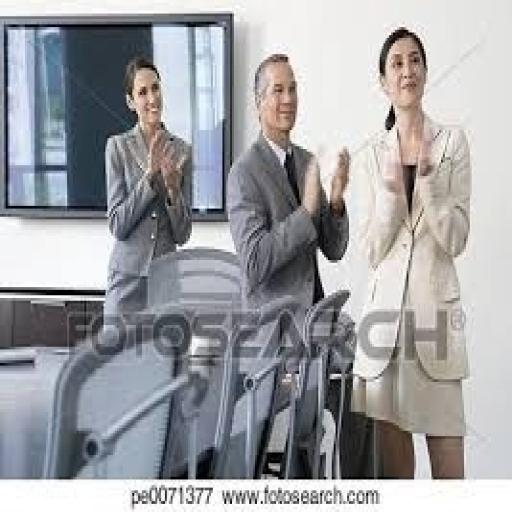clapping: (341, 24, 474, 480), (222, 51, 351, 477), (102, 54, 194, 322)
